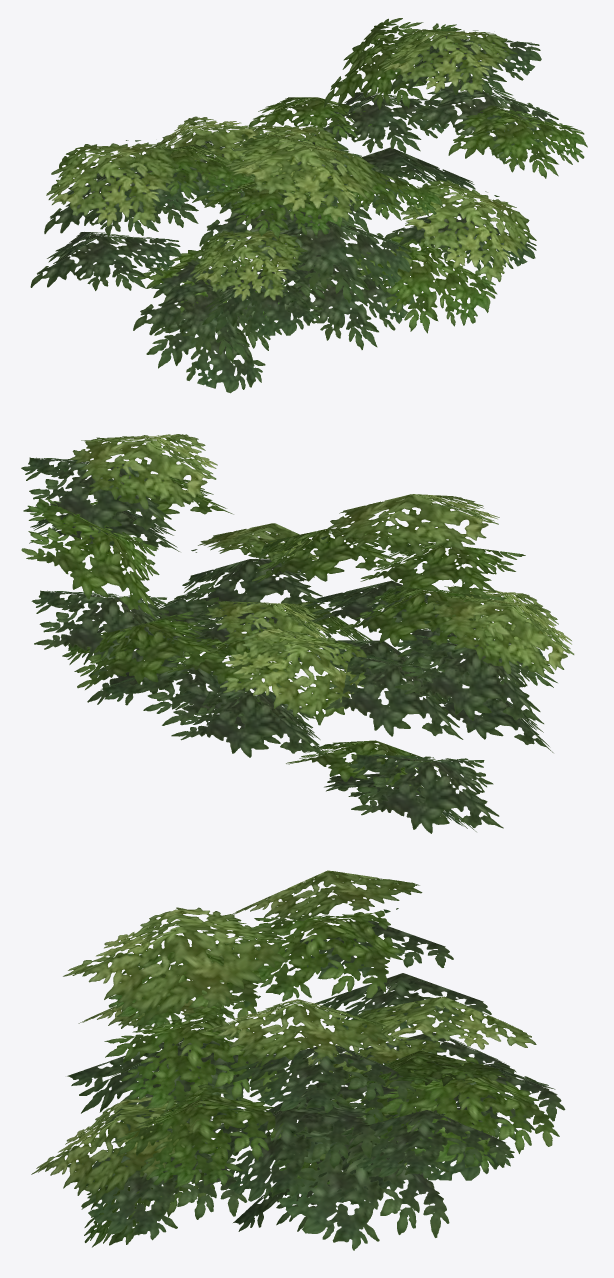
The model's file is S_Tree_Green131_1060_1.fbx.
The picture shows the model from 3 angles, top to bottom: view 1: azimuth 30°, elevation 25°; view 2: azimuth 150°, elevation 25°; view 3: azimuth 270°, elevation 25°; orthographic projection. The views are drawn at different scales.
Visible parts, largest first — view 1: S_Tree_Green131_1060_1; view 2: S_Tree_Green131_1060_1; view 3: S_Tree_Green131_1060_1.
Boxes of the visible parts, box(x1,y1,x2,y2) form: S_Tree_Green131_1060_1: box(30, 18, 587, 393); S_Tree_Green131_1060_1: box(21, 434, 574, 833); S_Tree_Green131_1060_1: box(31, 870, 565, 1250).
Bounding box in the file's own units: 250 × 134 × 192.
